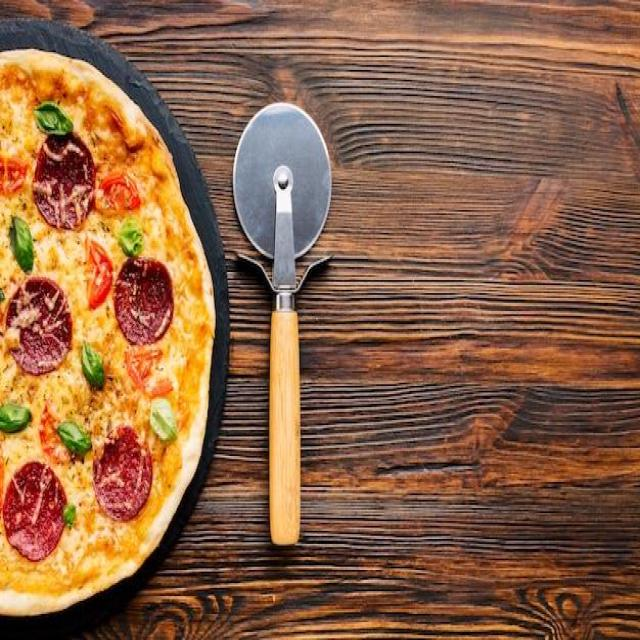basil: (9, 215, 35, 275), (80, 336, 106, 396), (32, 103, 73, 140), (54, 421, 92, 457), (108, 221, 144, 258), (0, 405, 33, 436), (149, 406, 172, 443), (62, 499, 78, 532)
pepperoni: (7, 280, 75, 377), (3, 463, 66, 562), (33, 135, 95, 231), (115, 255, 176, 346), (91, 428, 152, 518)
pizza: (0, 49, 216, 618)
